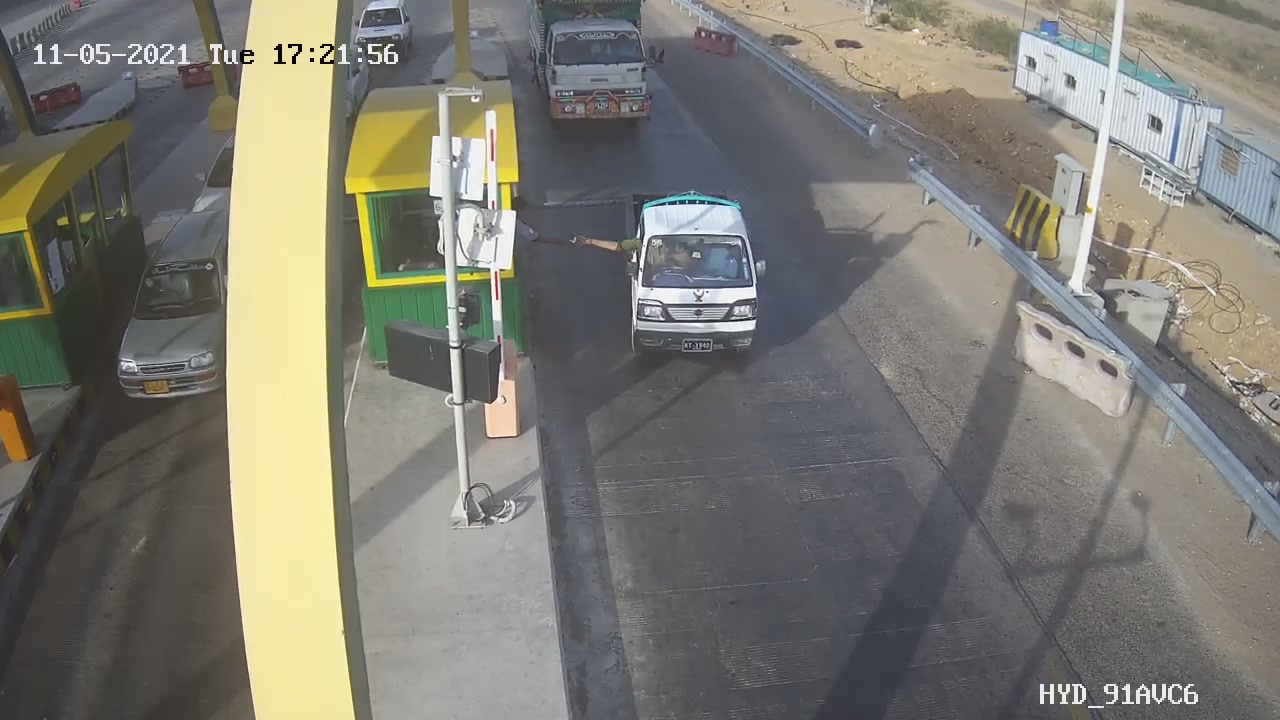F1: (608, 170, 779, 381)
